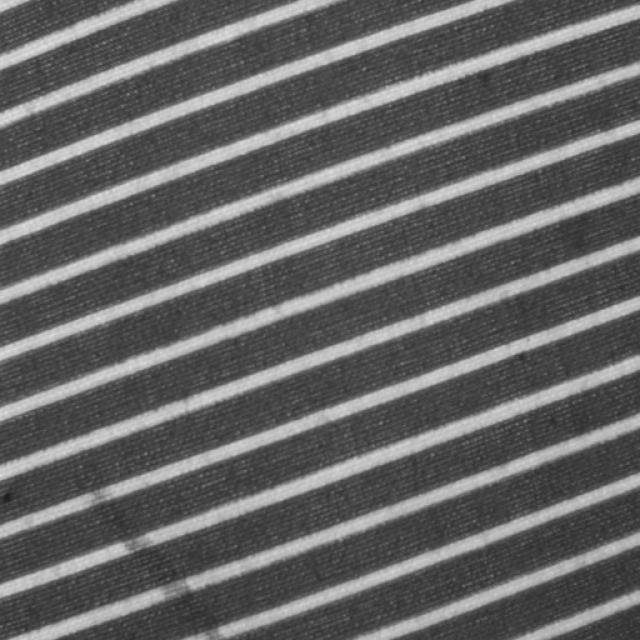Stain-Defect: (72, 454, 221, 636)
